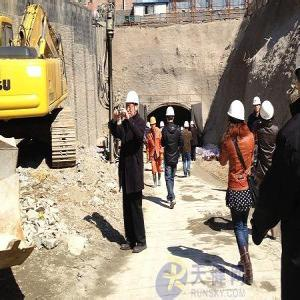white: (228, 100, 246, 130), (260, 99, 276, 128), (126, 90, 140, 118), (167, 104, 177, 124), (252, 95, 262, 114), (184, 120, 191, 131)
yellow: (150, 115, 158, 132)
